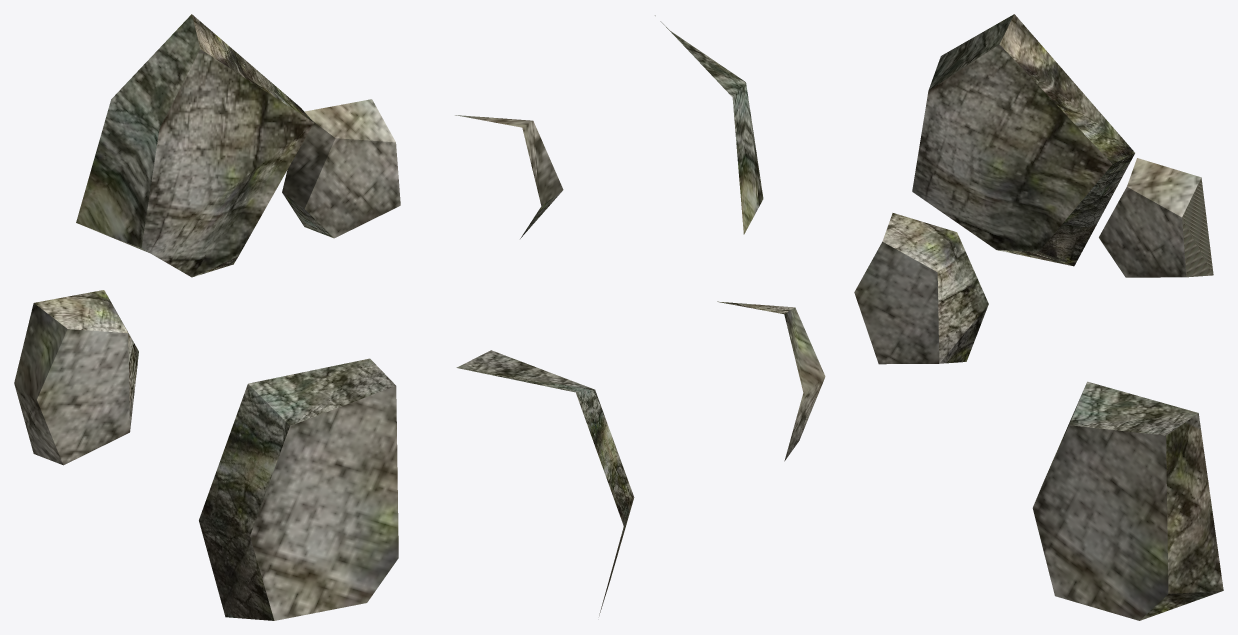
The picture shows the model from 3 angles, left to right: view 1: azimuth 30°, elevation 25°; view 2: azimuth 150°, elevation 25°; view 3: azimuth 330°, elevation 25°; orthographic projection. The views are drawn at different scales.
Parts seen in each view (by area): view 1: model_Object93; view 2: model_Object93; view 3: model_Object93.
Boxes of the visible parts, <box> form: model_Object93: <box>14,14,400,620</box>; model_Object93: <box>455,15,825,615</box>; model_Object93: <box>854,14,1223,620</box>.
Size of the model in its own units: 2.42 by 3.76 by 0.4955.
1 material, 1 textured.
